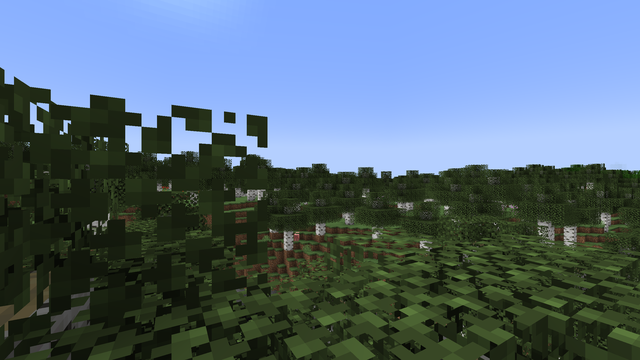cochons: (293, 233, 300, 240)
